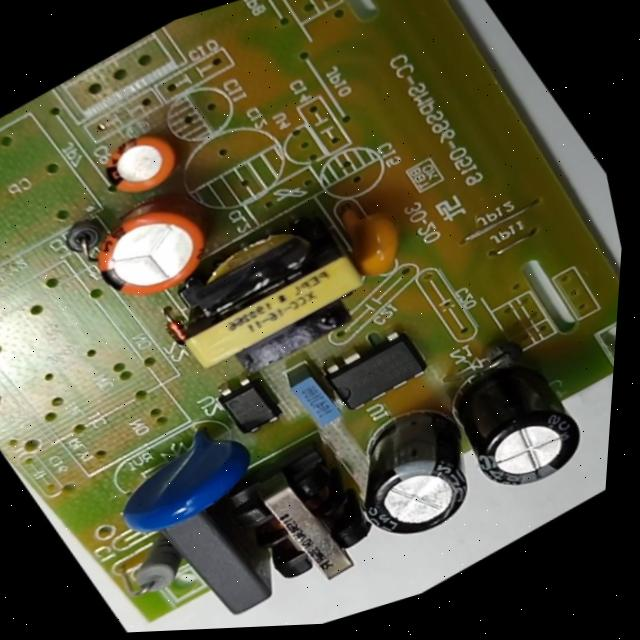Cap1: (58, 167, 244, 328)
Cap2: (75, 106, 203, 218)
Cap3: (305, 377, 519, 573)
Cap4: (413, 327, 613, 510)
MOSFET: (307, 310, 447, 429)
Mov: (79, 400, 284, 559)
Resistor: (105, 529, 200, 613)
Transformer: (127, 183, 404, 413), (188, 416, 415, 630)
